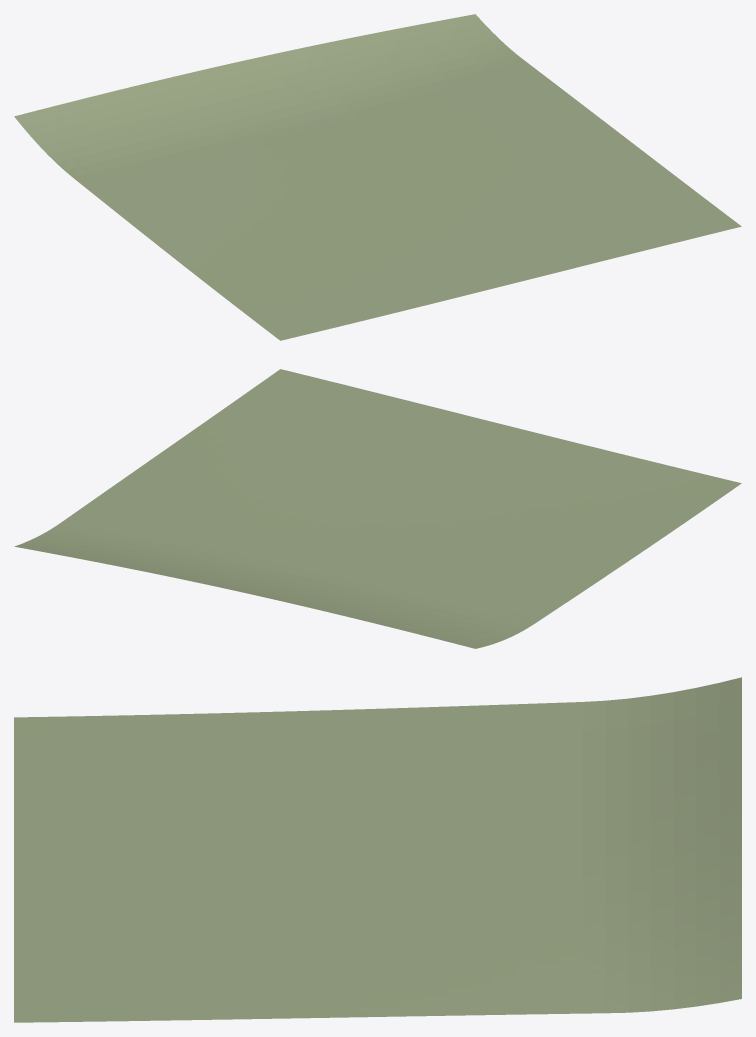
The model's file is desert-26-23.glb.
3 views of the same model, one above another, from view 1: azimuth 30°, elevation 25°; view 2: azimuth 150°, elevation 25°; view 3: azimuth 270°, elevation 25° (orthographic). The views are drawn at different scales.
Parts seen in each view (by area): view 1: desert-26-23; view 2: desert-26-23; view 3: desert-26-23.
Part boxes in pixels (<box>): desert-26-23: <box>14,14,741,340</box>; desert-26-23: <box>14,369,741,648</box>; desert-26-23: <box>14,677,741,1022</box>.
Bounding box in the file's own units: 512 × 32.24 × 512.
